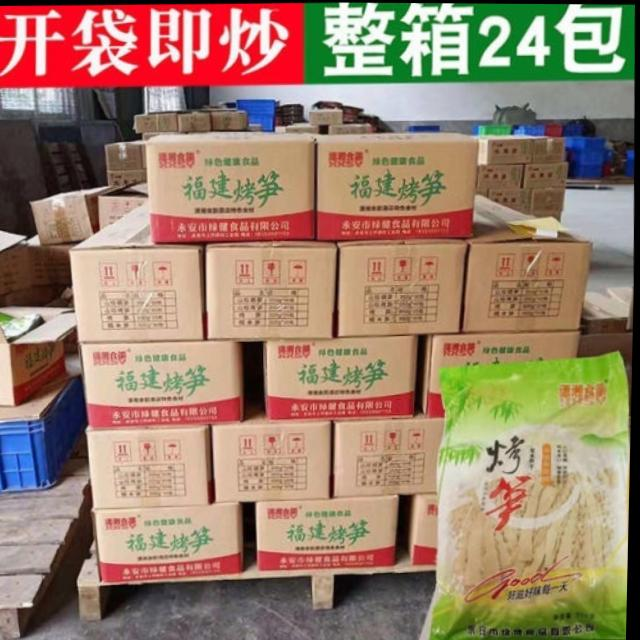box: (212, 340, 335, 502), (69, 200, 208, 342), (304, 131, 479, 242), (147, 131, 316, 243), (461, 193, 595, 331), (417, 328, 582, 416), (80, 340, 246, 427), (93, 499, 258, 582), (205, 241, 338, 341), (334, 237, 468, 336), (264, 333, 419, 418), (335, 391, 447, 497), (86, 422, 217, 507), (258, 494, 399, 569), (398, 492, 441, 564)
